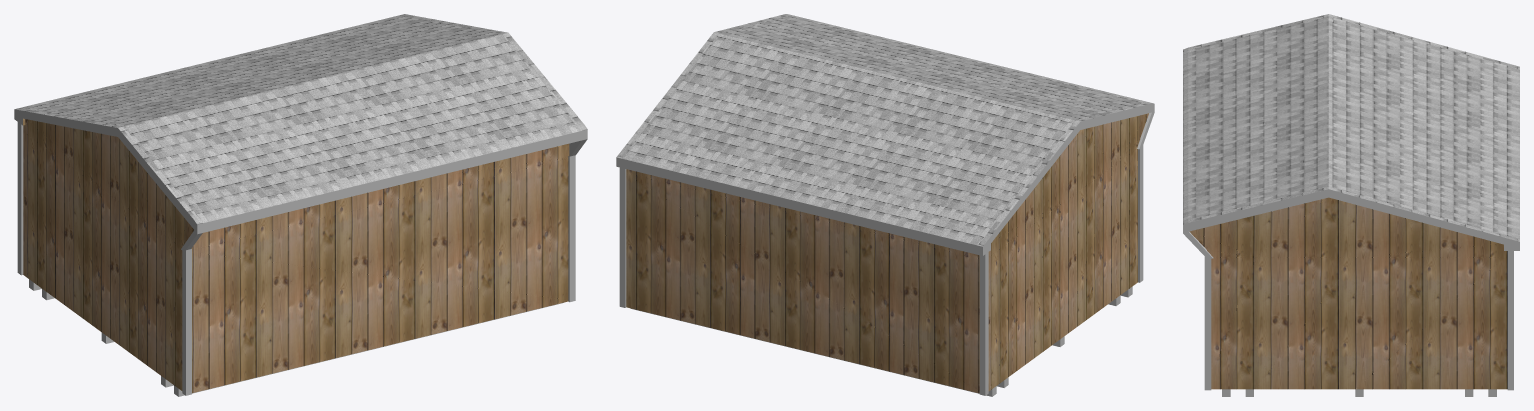
The model's file is Quaker Sheds_12x16.obj.
The picture shows the model from 3 angles, left to right: view 1: azimuth 30°, elevation 25°; view 2: azimuth 150°, elevation 25°; view 3: azimuth 270°, elevation 25°; orthographic projection. The views are drawn at different scales.
Visible parts, largest first — view 1: Shed, Roof, Sides, Trim, Floor; view 2: Shed, Roof, Sides, Trim, Floor; view 3: Roof, Shed, Sides, Trim, Floor.
Boxes of the visible parts, bbox=[...] form: Shed: bbox=[23, 118, 569, 393]; Roof: bbox=[15, 14, 587, 224]; Sides: bbox=[14, 109, 587, 251]; Trim: bbox=[17, 122, 575, 395]; Floor: bbox=[29, 279, 563, 396]; Shed: bbox=[626, 113, 1148, 393]; Roof: bbox=[616, 14, 1153, 246]; Sides: bbox=[616, 103, 1154, 255]; Trim: bbox=[619, 145, 1143, 395]; Floor: bbox=[630, 286, 1132, 396]; Roof: bbox=[1183, 14, 1519, 241]; Shed: bbox=[1189, 197, 1507, 389]; Sides: bbox=[1183, 189, 1519, 258]; Trim: bbox=[1204, 251, 1513, 390]; Floor: bbox=[1222, 389, 1496, 396].
Size of the model in its own units: 4.94 by 2.74 by 4.01.
